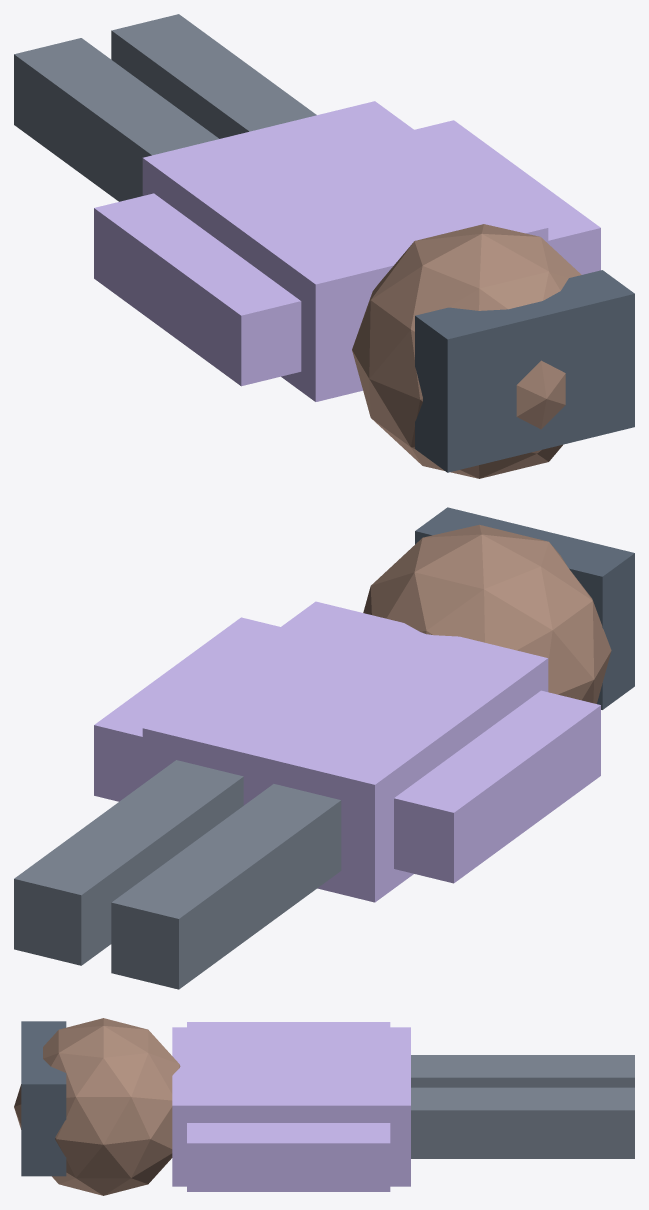
Rendered from manager_variant_4.glb.
3 views of the same model, one above another, from view 1: azimuth 30°, elevation 25°; view 2: azimuth 150°, elevation 25°; view 3: azimuth 270°, elevation 25° (orthographic). The views are drawn at different scales.
Visible parts, largest first — view 1: torso_2, hair_6, head_5, arm_l_3, leg_l_0, leg_r_1, arm_r_4; view 2: torso_2, leg_l_0, head_5, arm_l_3, leg_r_1, arm_r_4, hair_6; view 3: torso_2, head_5, leg_r_1, arm_r_4, leg_l_0, hair_6, arm_l_3.
Part boxes in pixels (x1,y1,x2,y2): torso_2: (142,101,548,401); hair_6: (415,270,634,472); head_5: (352,224,581,478); arm_l_3: (94,193,301,386); leg_l_0: (14,38,218,201); leg_r_1: (111,14,316,138); arm_r_4: (414,120,600,274); torso_2: (142,601,548,902); leg_l_0: (111,784,341,989); head_5: (363,524,611,703); arm_l_3: (394,690,600,883); leg_r_1: (14,760,243,965); arm_r_4: (94,617,280,801); hair_6: (415,507,634,709); torso_2: (172,1027,410,1186); head_5: (14,1018,180,1195); leg_r_1: (411,1087,634,1158); arm_r_4: (187,1123,390,1191); leg_l_0: (411,1055,634,1087); hair_6: (21,1021,66,1176); arm_l_3: (187,1022,390,1027).
Bounding box in the file's own units: 0.96 × 0.6 × 2.08.
